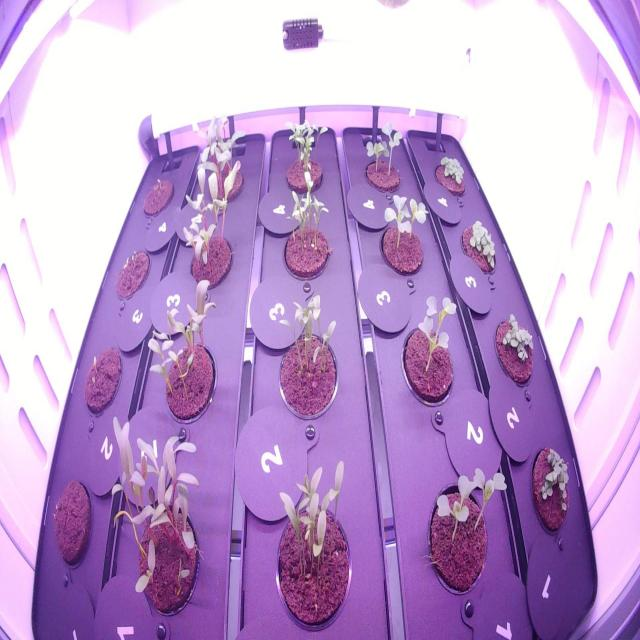germination: (264, 450, 361, 640), (421, 453, 510, 614), (144, 274, 224, 431), (271, 289, 352, 429), (176, 159, 250, 293), (396, 289, 461, 412), (275, 171, 339, 286), (184, 106, 252, 214), (526, 437, 579, 540), (373, 187, 429, 280), (278, 112, 332, 200), (356, 118, 412, 200), (490, 304, 539, 388), (79, 337, 126, 424), (111, 241, 153, 304), (460, 214, 500, 280), (431, 148, 473, 201), (138, 169, 177, 223)
pod: (48, 472, 96, 575)
